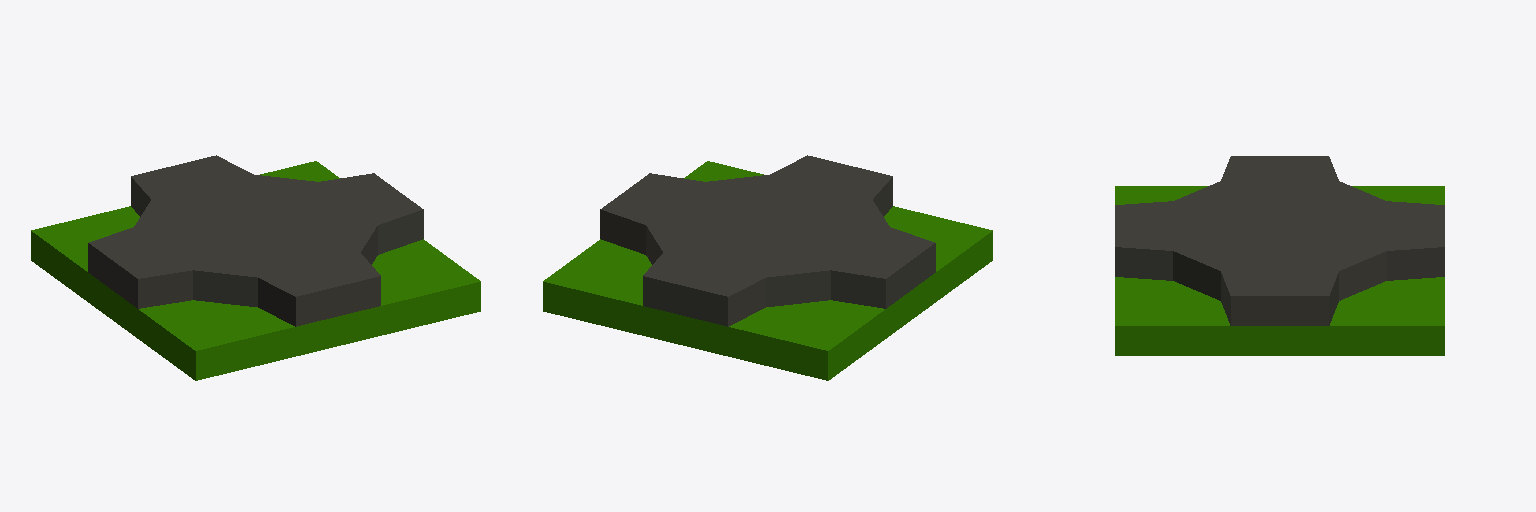
Rendered from Road.obj.
3 renders of one model, left to right at view 1: azimuth 30°, elevation 25°; view 2: azimuth 150°, elevation 25°; view 3: azimuth 270°, elevation 25°, orthographic.
Parts seen in each view (by area): view 1: Line002, Tilebase100; view 2: Line002, Tilebase100; view 3: Line002, Tilebase100.
Part boxes in pixels (x1,y1,x2,y2): Line002: (88,155,423,326); Tilebase100: (31,161,480,380); Line002: (600,155,935,326); Tilebase100: (543,161,992,380); Line002: (1115,156,1444,325); Tilebase100: (1115,186,1444,355).
Bounding box in the file's own units: 10 × 2 × 10.